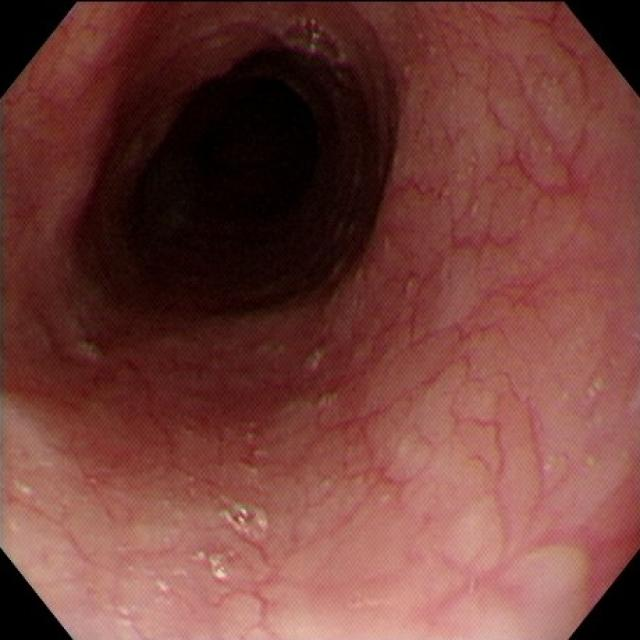E: (174, 79, 352, 260)
T: (220, 498, 270, 542)
